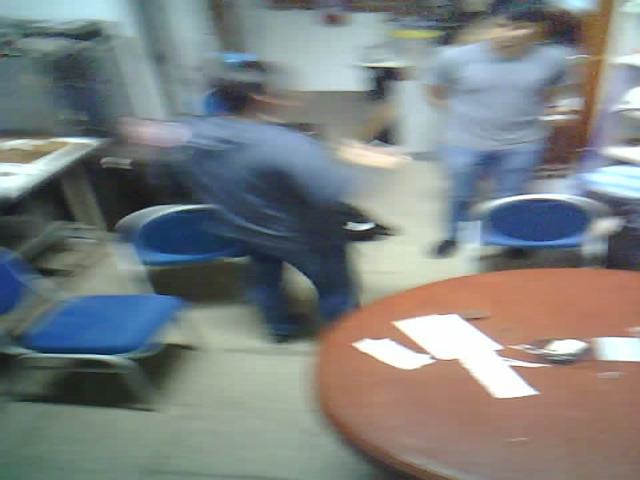person: (160, 49, 379, 356), (427, 4, 601, 275)
